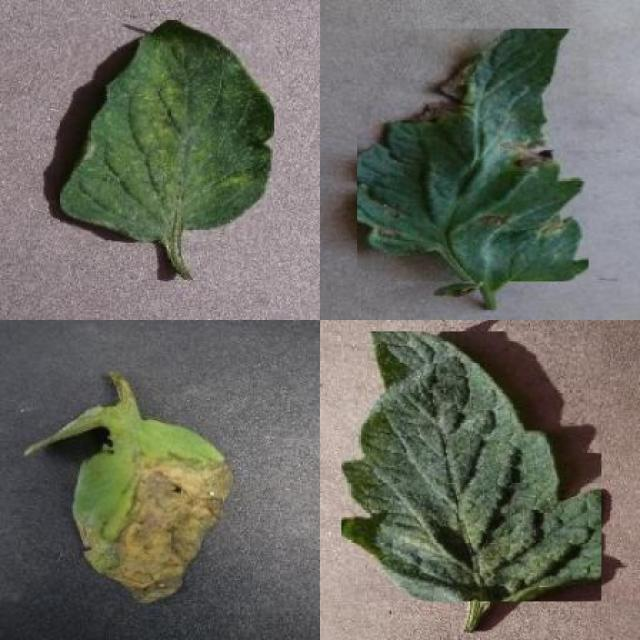Early Blight: (357, 28, 589, 282)
Late Blight: (73, 418, 233, 606)
Spider Mites: (342, 332, 602, 602), (59, 21, 274, 242)
